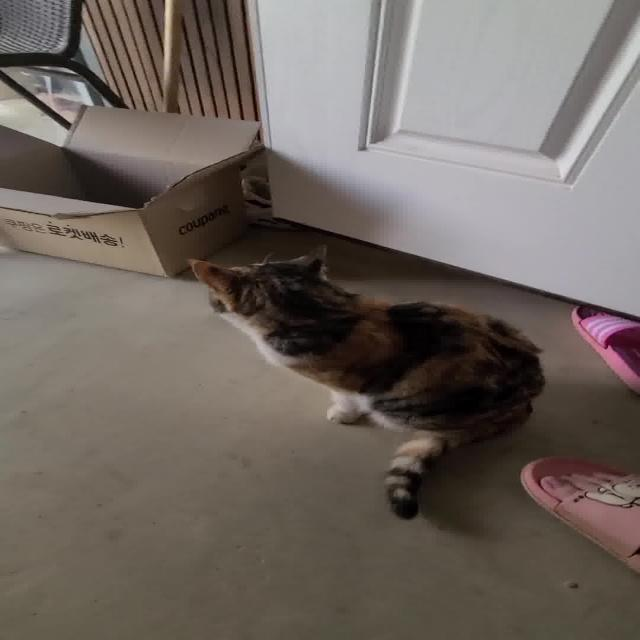cat: (185, 241, 560, 521)
